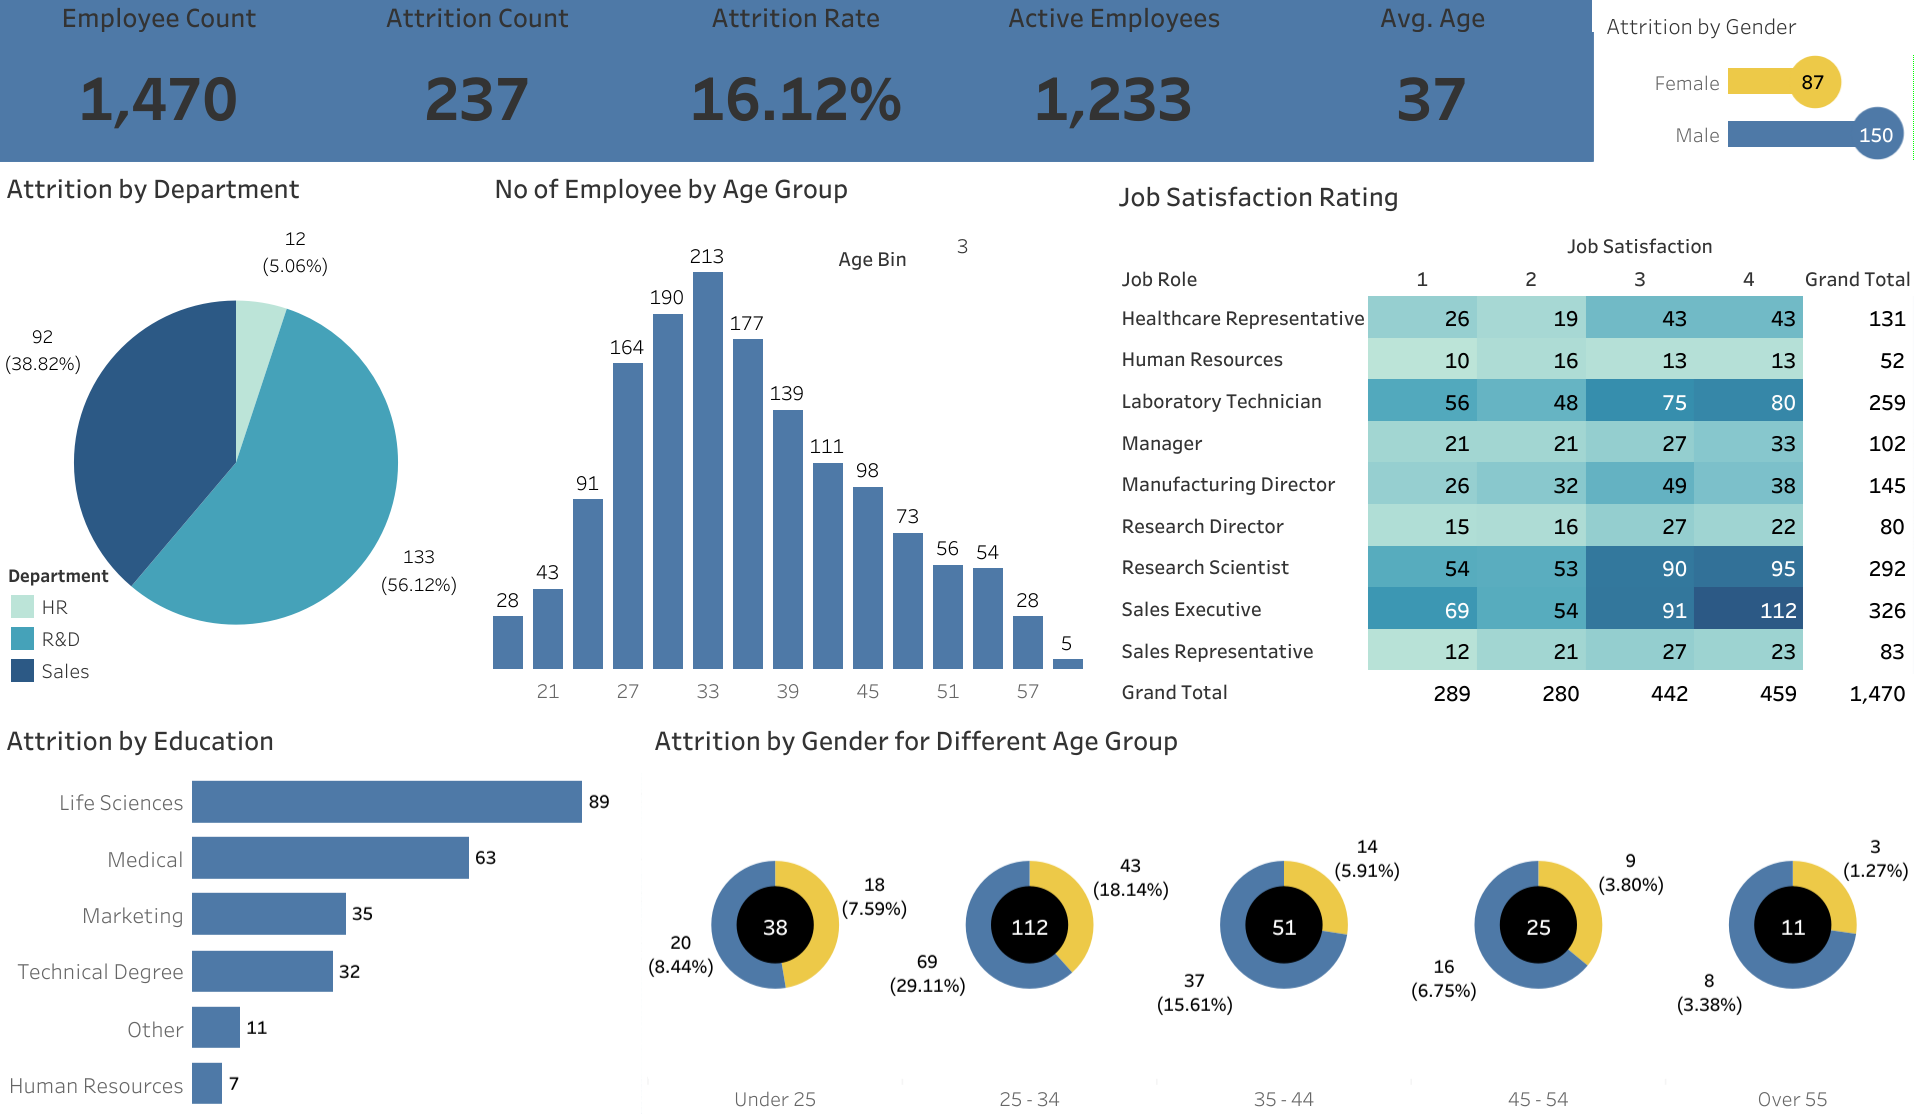

The page's visual inventory and layout, read from the dashboard file:
{"tool":"tableau","page":{"name":"HR Analytics Dashboard","canvas":[1200,700],"ordinal":0},"visuals":[{"type":"worksheet","title":"KPI","mark":"Automatic","box":[0,0,995,100]},{"type":"worksheet","title":"Attrition by Gender","mark":"Automatic","rows":["Gender"],"cols":["Calculation_835628885626560512","Calculation_835628885626560512"],"box":[1000,0,195,100]},{"type":"worksheet","title":"Attrition by Department","mark":"Pie","box":[0,100,295,340]},{"type":"worksheet","title":"No of Employee by Age Group","mark":"Automatic","rows":["Employee Count"],"cols":["Age (bin)"],"box":[305,100,375,340]},{"type":"worksheet","title":"Job Satisfaction Rating","mark":"Square","rows":["Job Role"],"cols":["Job Satisfaction"],"box":[695,105,500,340]},{"type":"parameter","param":"[Parameters].[Parameter 1]","box":[524,144,160,34]},{"type":"legend","title":"Attrition by Department","param":"[federated.08ak1490zyagjx19j9l1z1sk0cfy].[none:Department:nk]","box":[4,350,250,91]},{"type":"worksheet","title":"Attrition by Education","mark":"Automatic","rows":["Education Field"],"cols":["Calculation_835628885626560512"],"box":[0,445,400,250]},{"type":"worksheet","title":"Attrition by Gender for Different Age Group","mark":"Pie","rows":["Calculation_1125948637487270","Calculation_1125948637487270"],"cols":["CF_age band"],"box":[405,445,795,250]}]}

Visuals, with their boxes in screenshot pixels (x1, y1, x2, y2), scaled from the page's 1200x700 canvas onto the 1918x1118 screenshot:
"KPI" worksheet: l=0, t=0, r=1590, b=160
"Attrition by Gender" worksheet: l=1598, t=0, r=1910, b=160
"Attrition by Department" worksheet (Pie marks): l=0, t=160, r=472, b=703
"No of Employee by Age Group" worksheet: l=487, t=160, r=1087, b=703
"Job Satisfaction Rating" worksheet (Square marks): l=1111, t=168, r=1910, b=711
parameter: l=838, t=230, r=1093, b=284
"Attrition by Department" legend: l=6, t=559, r=406, b=704
"Attrition by Education" worksheet: l=0, t=711, r=639, b=1110
"Attrition by Gender for Different Age Group" worksheet (Pie marks): l=647, t=711, r=1917, b=1110
